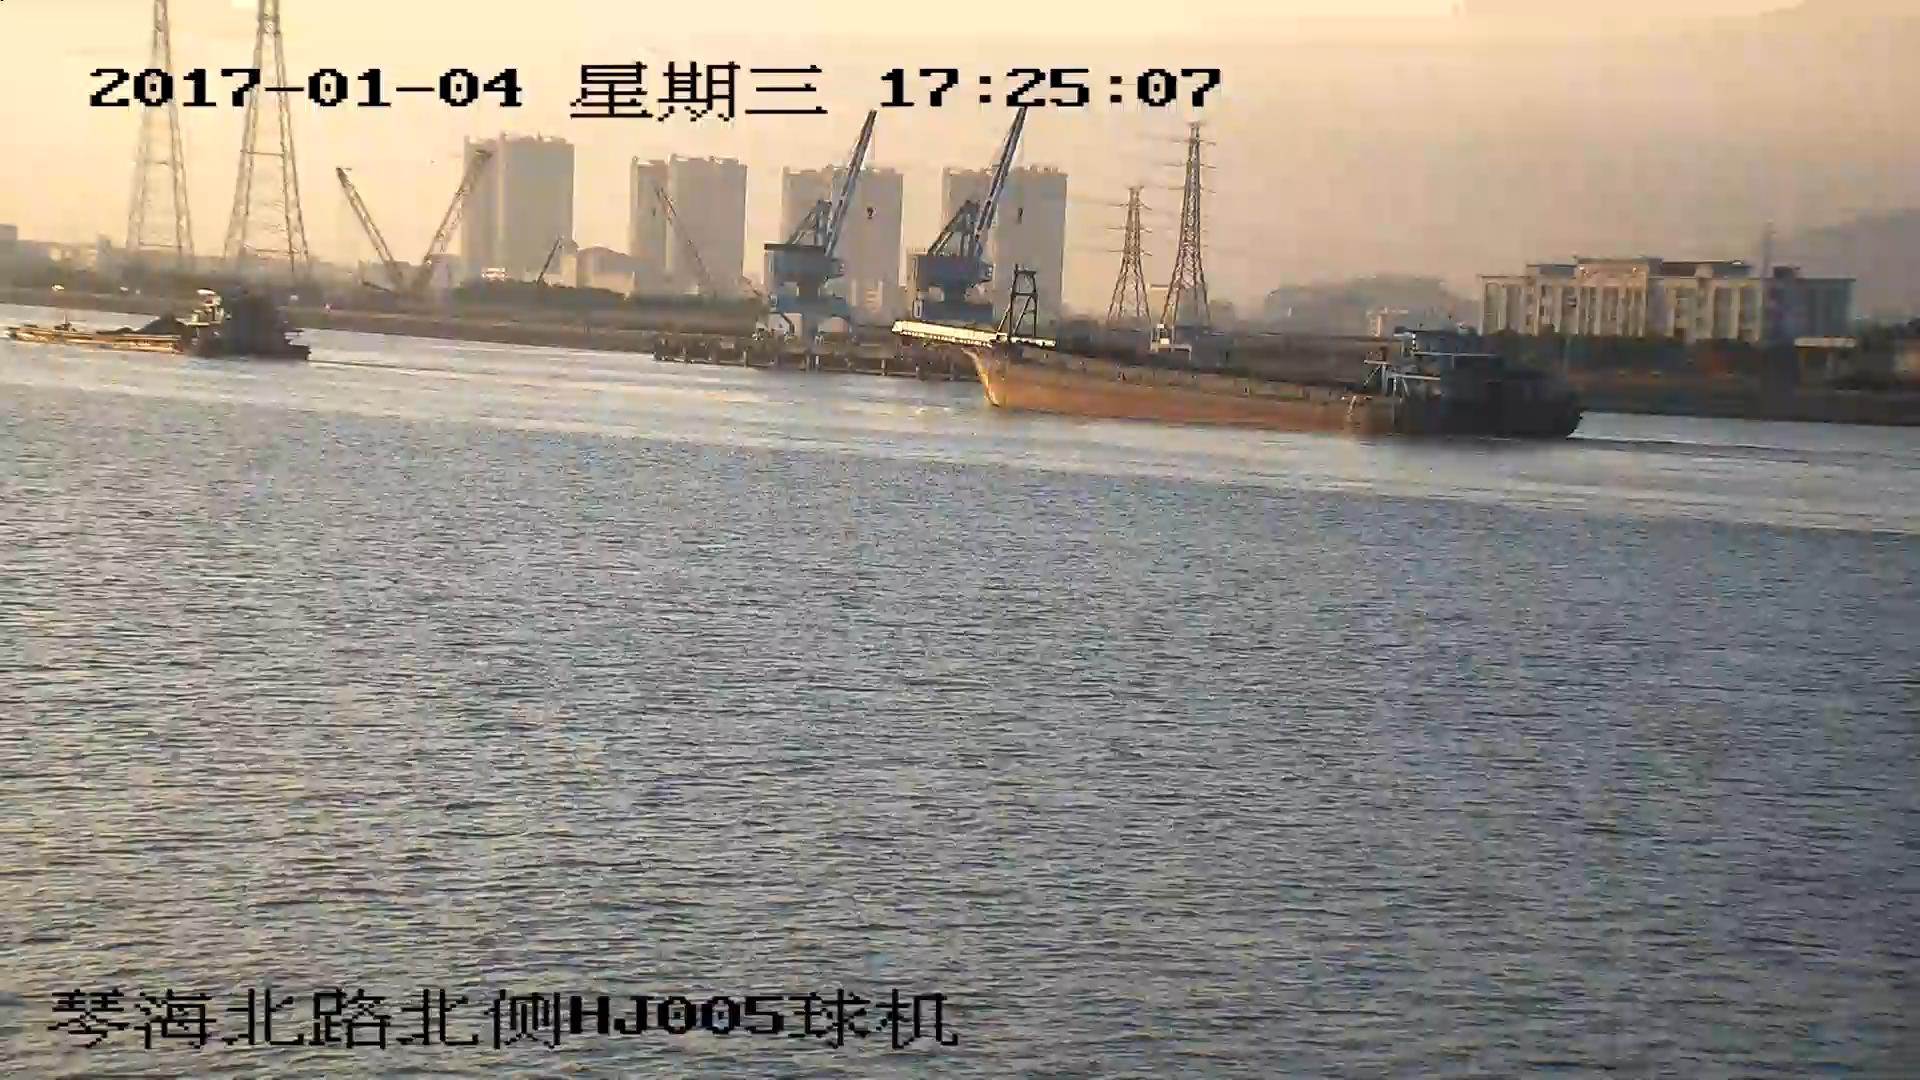bulk cargo carrier: (899, 317, 1581, 438)
ore carrier: (1, 289, 309, 358)
